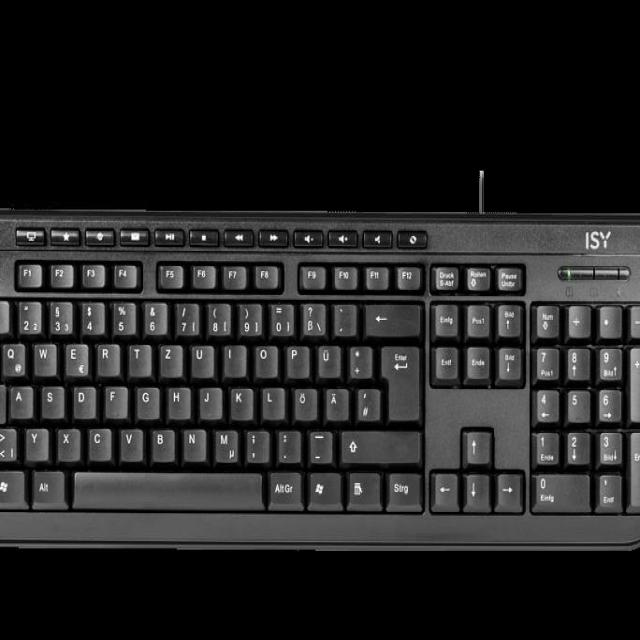0: (267, 297, 292, 335)
1: (0, 295, 12, 331)
2: (15, 296, 39, 331)
3: (46, 296, 71, 333)
4: (78, 298, 103, 333)
5: (109, 298, 135, 333)
6: (140, 298, 166, 333)
7: (172, 297, 198, 335)
8: (203, 297, 229, 335)
9: (235, 297, 260, 335)
a: (6, 382, 31, 417)
accent: (329, 299, 355, 334)
ae: (322, 383, 347, 419)
alt-left: (28, 466, 64, 505)
altgr-right: (265, 466, 300, 506)
b: (148, 424, 173, 459)
c: (84, 423, 110, 458)
caret: (0, 295, 13, 332)
comma: (242, 424, 268, 461)
d: (69, 382, 95, 417)
del: (361, 297, 419, 334)
e: (61, 339, 86, 374)
enter: (377, 340, 418, 419)
f: (101, 382, 125, 416)
g: (133, 382, 158, 417)
h: (164, 382, 189, 417)
hash: (353, 383, 378, 418)
i: (220, 340, 244, 375)
j: (195, 382, 220, 417)
k: (226, 383, 252, 418)
keyboard: (0, 201, 640, 547)
l: (258, 383, 284, 418)
less: (0, 423, 15, 459)
m: (211, 424, 237, 461)
minus: (305, 425, 330, 462)
n: (180, 424, 205, 459)
o: (251, 340, 276, 375)
oe: (290, 383, 315, 418)
p: (282, 340, 308, 375)
plus: (345, 340, 371, 375)
point: (274, 426, 300, 461)
q: (0, 339, 23, 374)
r: (93, 339, 118, 373)
s: (37, 380, 63, 417)
shift-left: (0, 423, 17, 459)
shift-lock: (0, 380, 21, 417)
shift-right: (338, 424, 418, 461)
space: (69, 467, 262, 508)
ss: (298, 297, 324, 334)
strg-left: (0, 464, 19, 506)
strg-right: (383, 468, 420, 507)
t: (125, 339, 150, 374)
tab: (0, 338, 21, 375)
u: (187, 340, 213, 375)
ue: (313, 340, 339, 377)
v: (116, 423, 141, 458)
w: (30, 338, 54, 373)
x: (53, 423, 79, 458)
y: (21, 423, 47, 458)
z: (156, 339, 181, 375)
